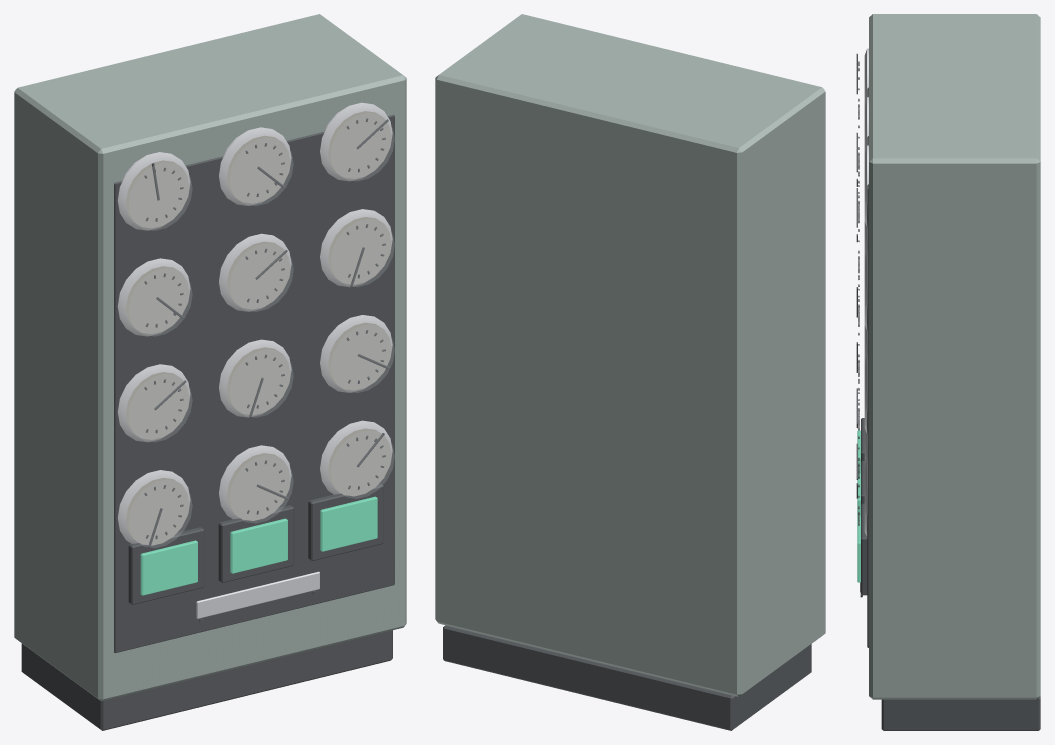
Rendered from nuclear-power-station-and-control-room-analogue-dial-b-6223805a__36910.glb.
The picture shows the model from 3 angles, left to right: view 1: azimuth 30°, elevation 25°; view 2: azimuth 150°, elevation 25°; view 3: azimuth 270°, elevation 25°; orthographic projection. The views are drawn at different scales.
Visible parts, largest first — view 1: analogue-dial-bank; view 2: analogue-dial-bank; view 3: analogue-dial-bank.
Part boxes in pixels (x1,y1,x2,y2): analogue-dial-bank: [14, 14, 406, 730]; analogue-dial-bank: [435, 14, 825, 730]; analogue-dial-bank: [856, 14, 1040, 730].
Bounding box in the file's own units: 1.1 × 2 × 0.586.
